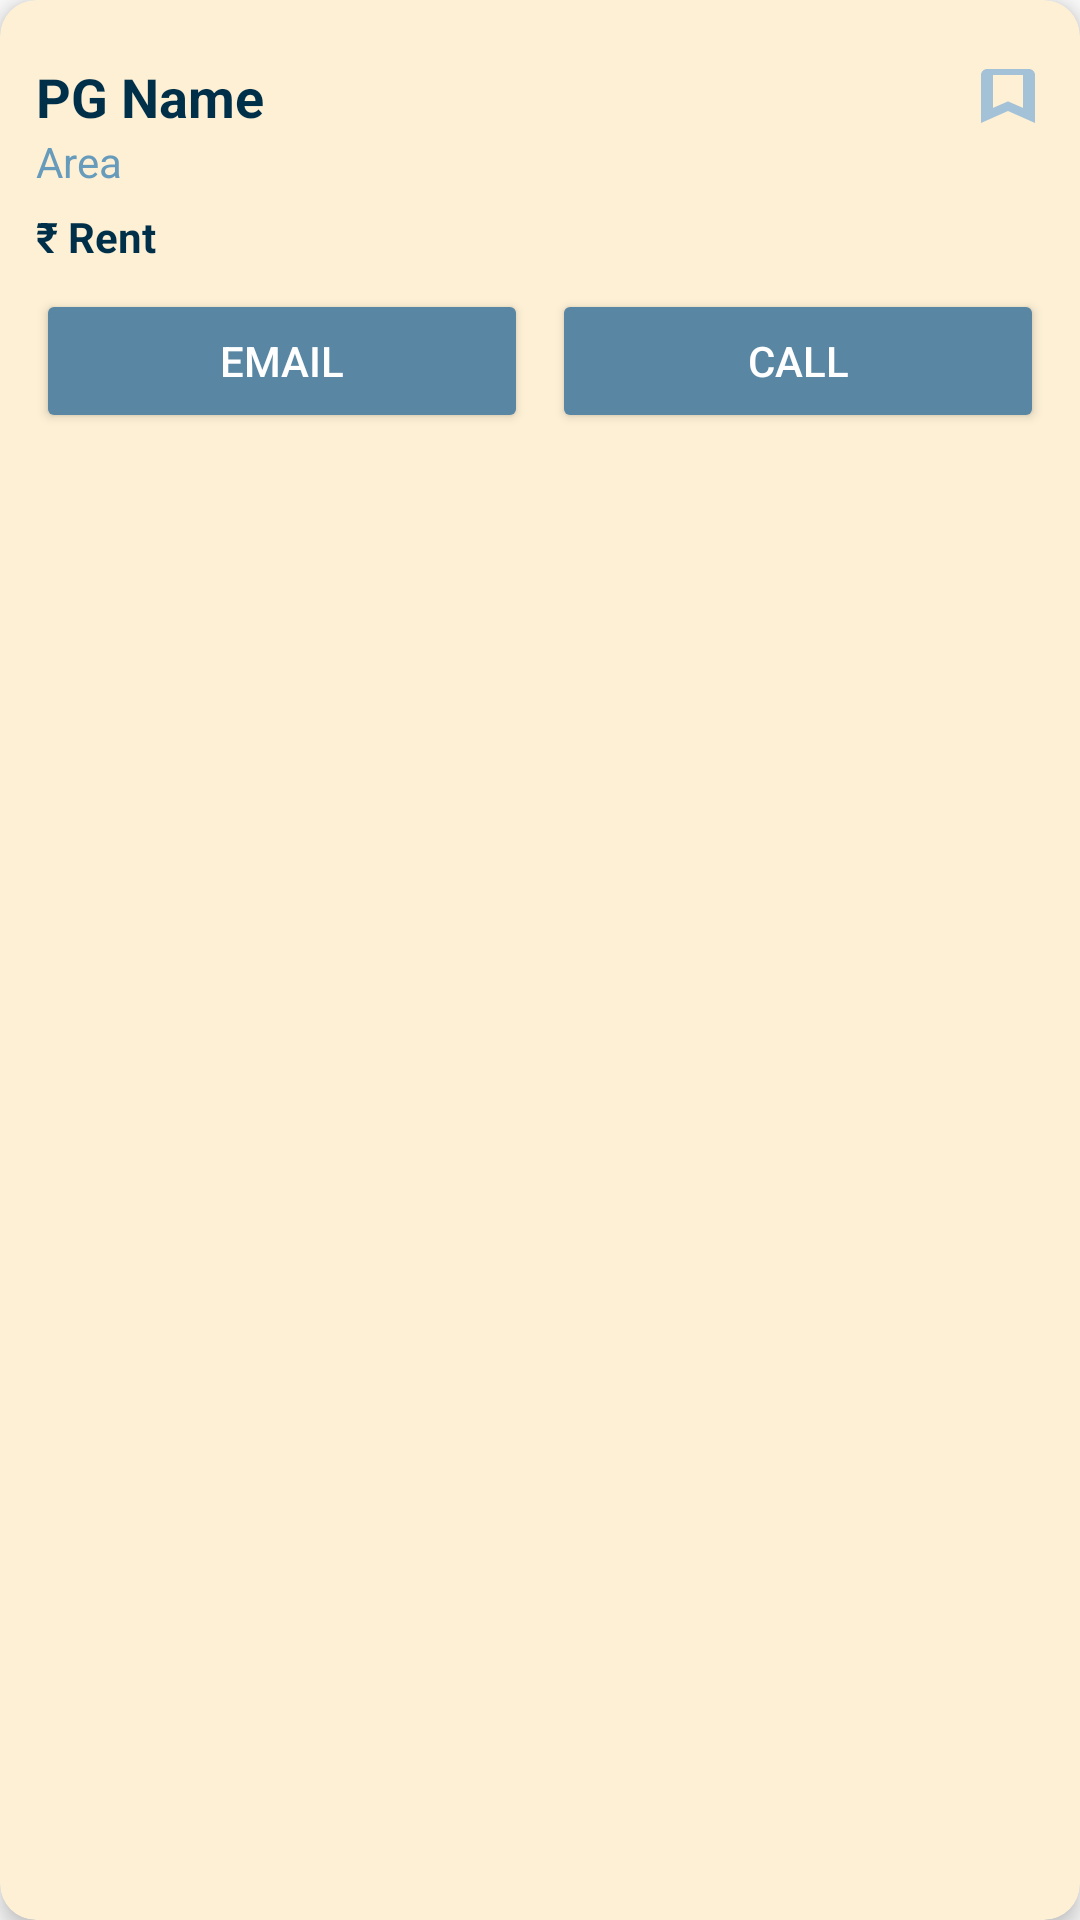

Named icons in this screenshot (1080w x 1920h) and their centers, (x,y):
Bookmark Icon: (1008,96)
